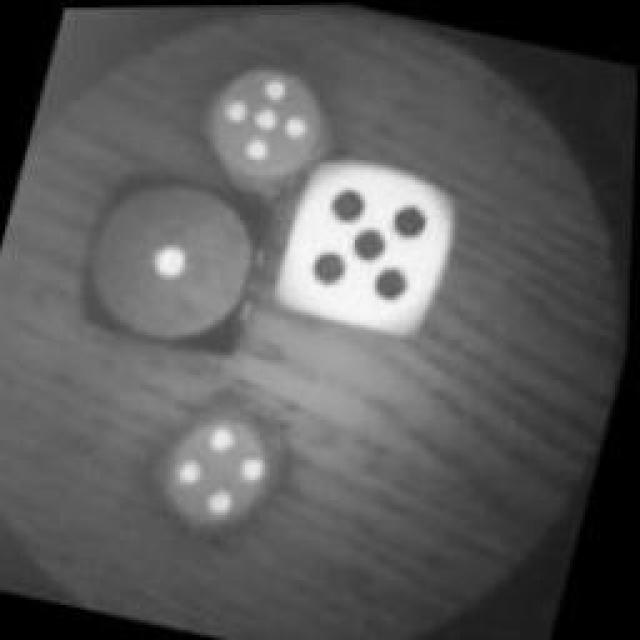dice_1: (67, 156, 285, 366)
dice_4: (142, 385, 306, 540)
dice_5: (255, 141, 475, 351), (182, 42, 358, 216)
